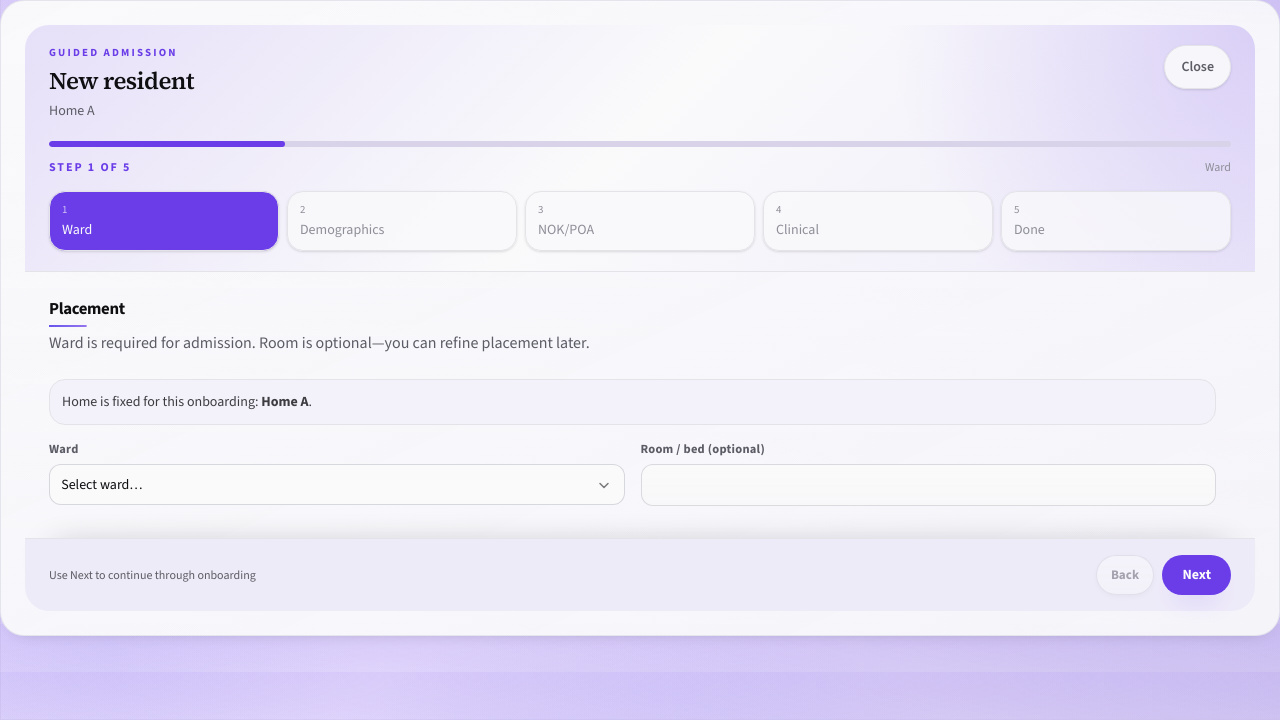
Test case: ResidentEditor create wizard › blocks Next on a full ward
The width and height of the screenshot is (1280, 720).
expect the text "Step 1 of 5" is shown: met, box [49,159,131,175]
Click the dropdown labelled "ward".
click(102, 484)  # box [49,464,624,505]
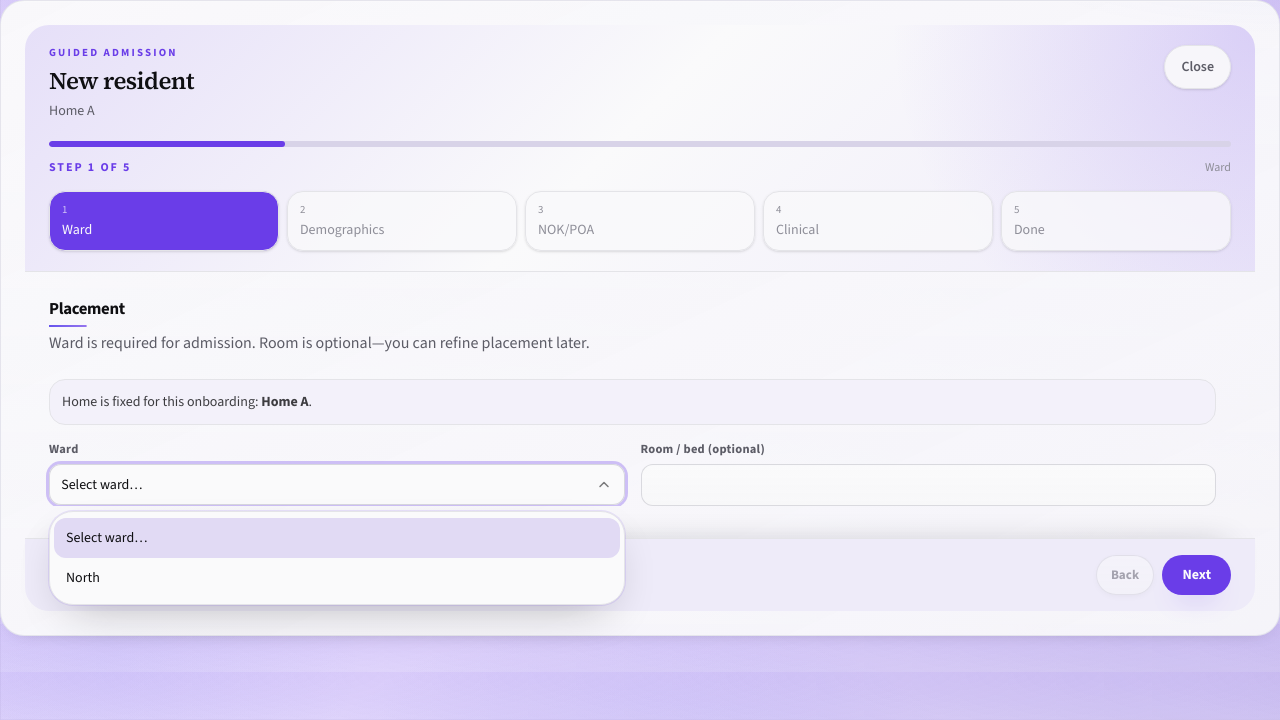
Click the option "North".
click(83, 578)  # box [66,568,100,587]
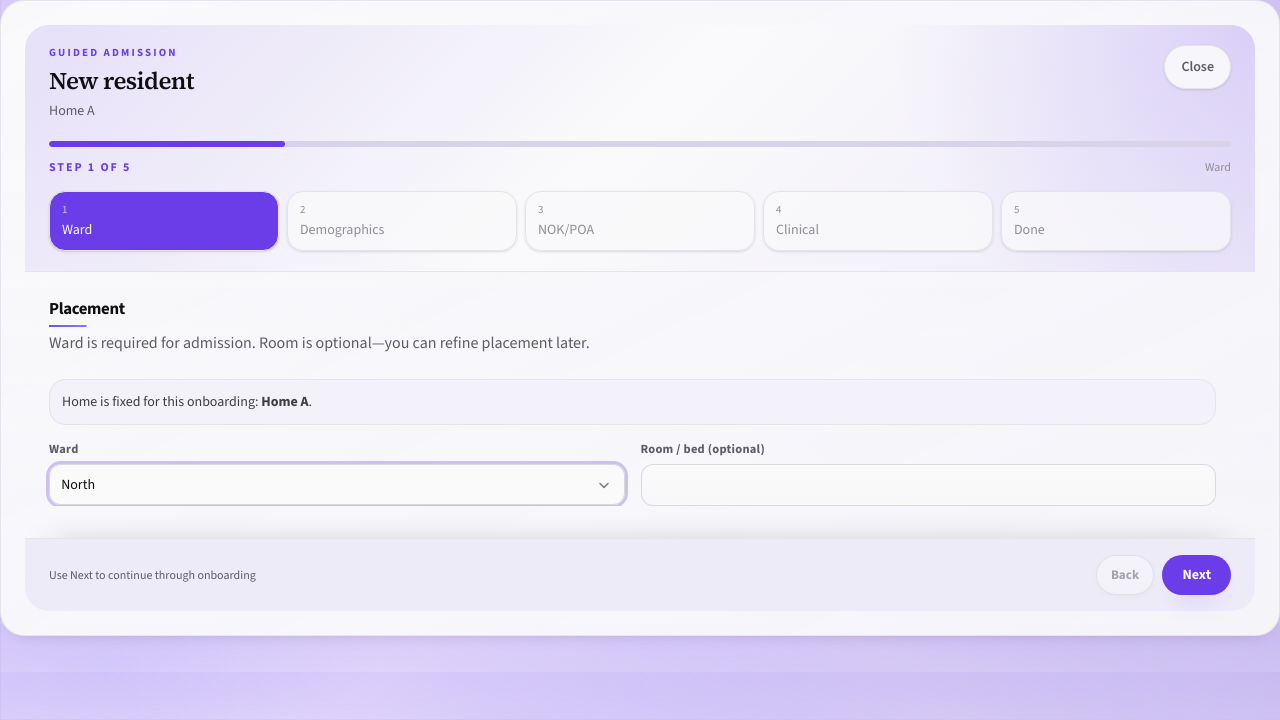
Click the button "Next".
click(1197, 575)  # box [1162,555,1231,595]
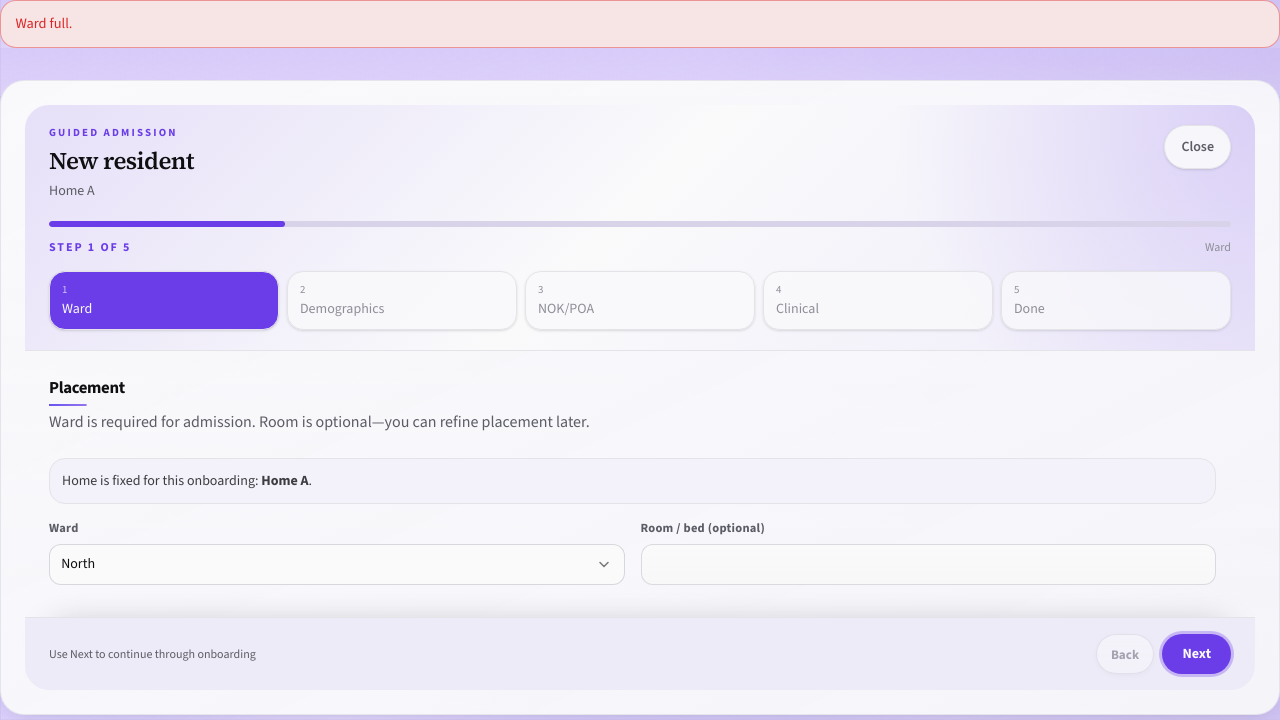
expect the text "Step 1 of 5" is shown: met, box [49,239,131,255]
expect the text "Ward full." is shown: met, box [0,0,1279,48]
